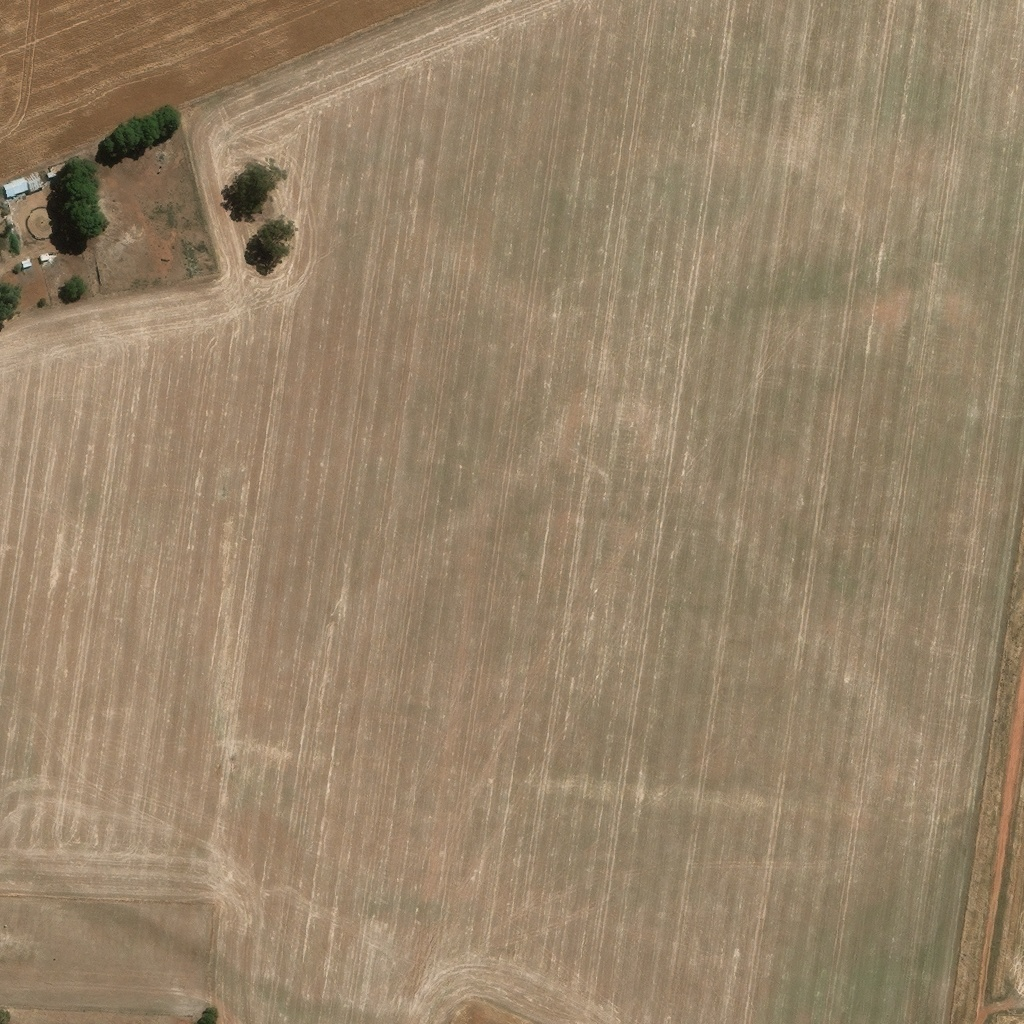0 no-damage: (2, 173, 30, 194), (46, 166, 57, 174)
